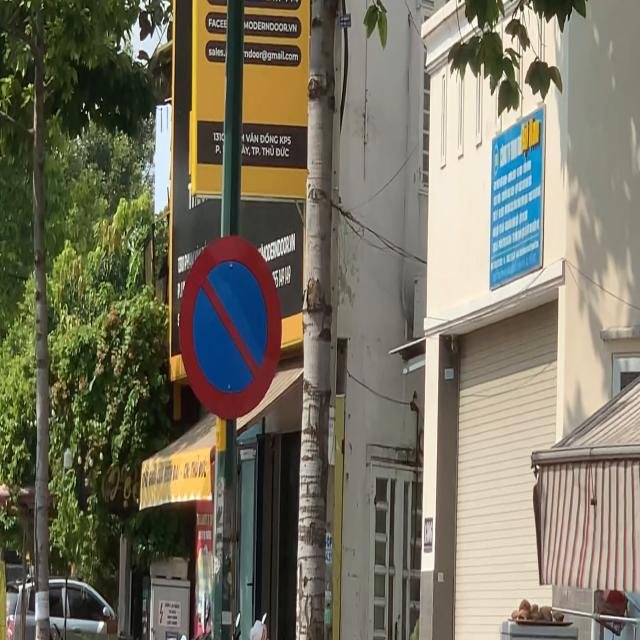Cam do: (179, 234, 283, 421)
